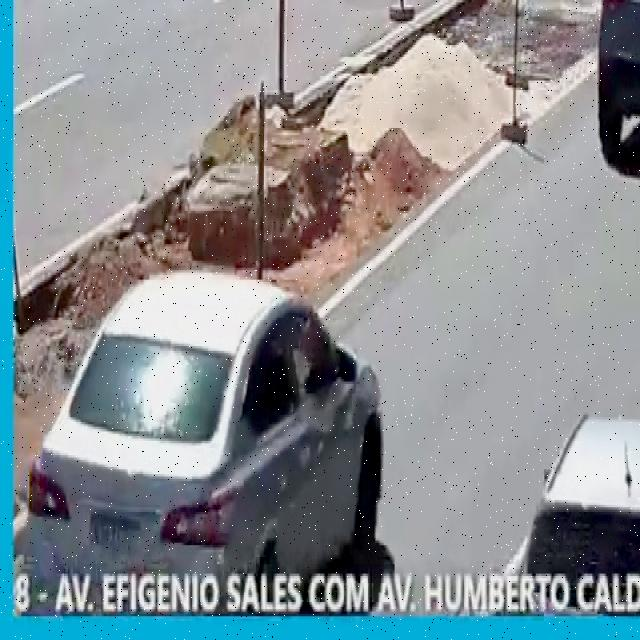car: (21, 259, 386, 608), (488, 408, 640, 614), (592, 0, 640, 173)
